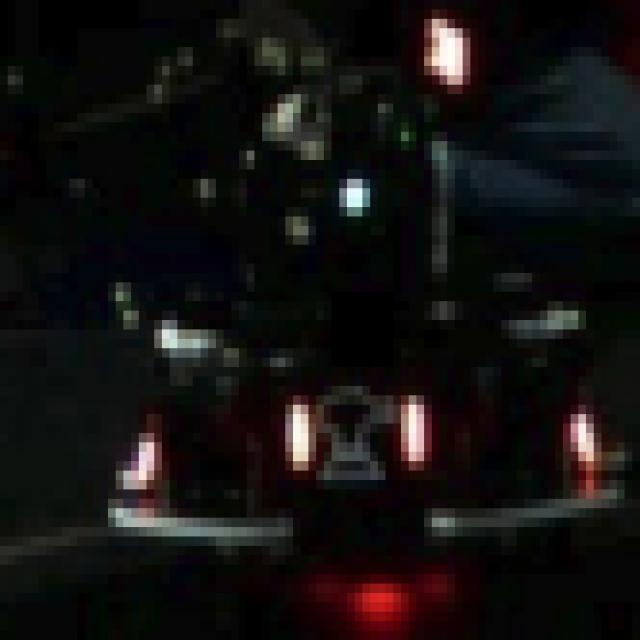Rs: (282, 380, 436, 484)
